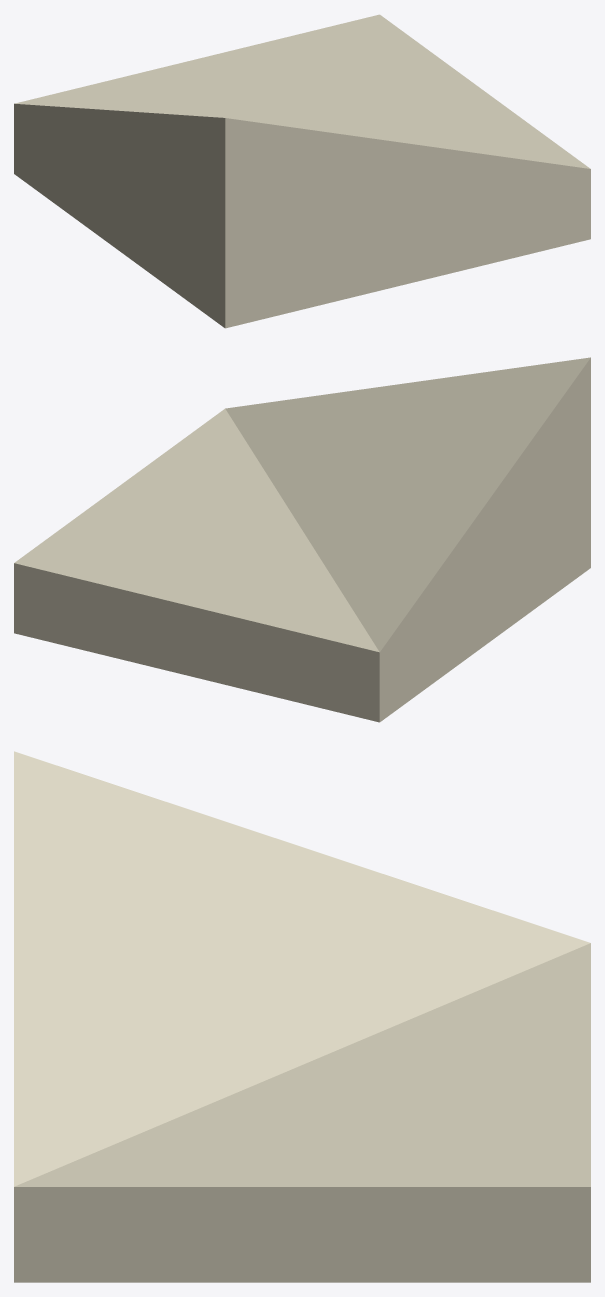
File: roadTile_005.fbx
3 views of the same model, one above another, from view 1: azimuth 30°, elevation 25°; view 2: azimuth 150°, elevation 25°; view 3: azimuth 270°, elevation 25° (orthographic). The views are drawn at different scales.
Visible parts, largest first — view 1: roadTile_005; view 2: roadTile_005; view 3: roadTile_005.
Part boxes in pixels (x1,y1,x2,y2): roadTile_005: [14, 14, 590, 328]; roadTile_005: [14, 357, 590, 722]; roadTile_005: [14, 751, 590, 1282].
Size of the model in its own units: 118 by 64.96 by 118.
